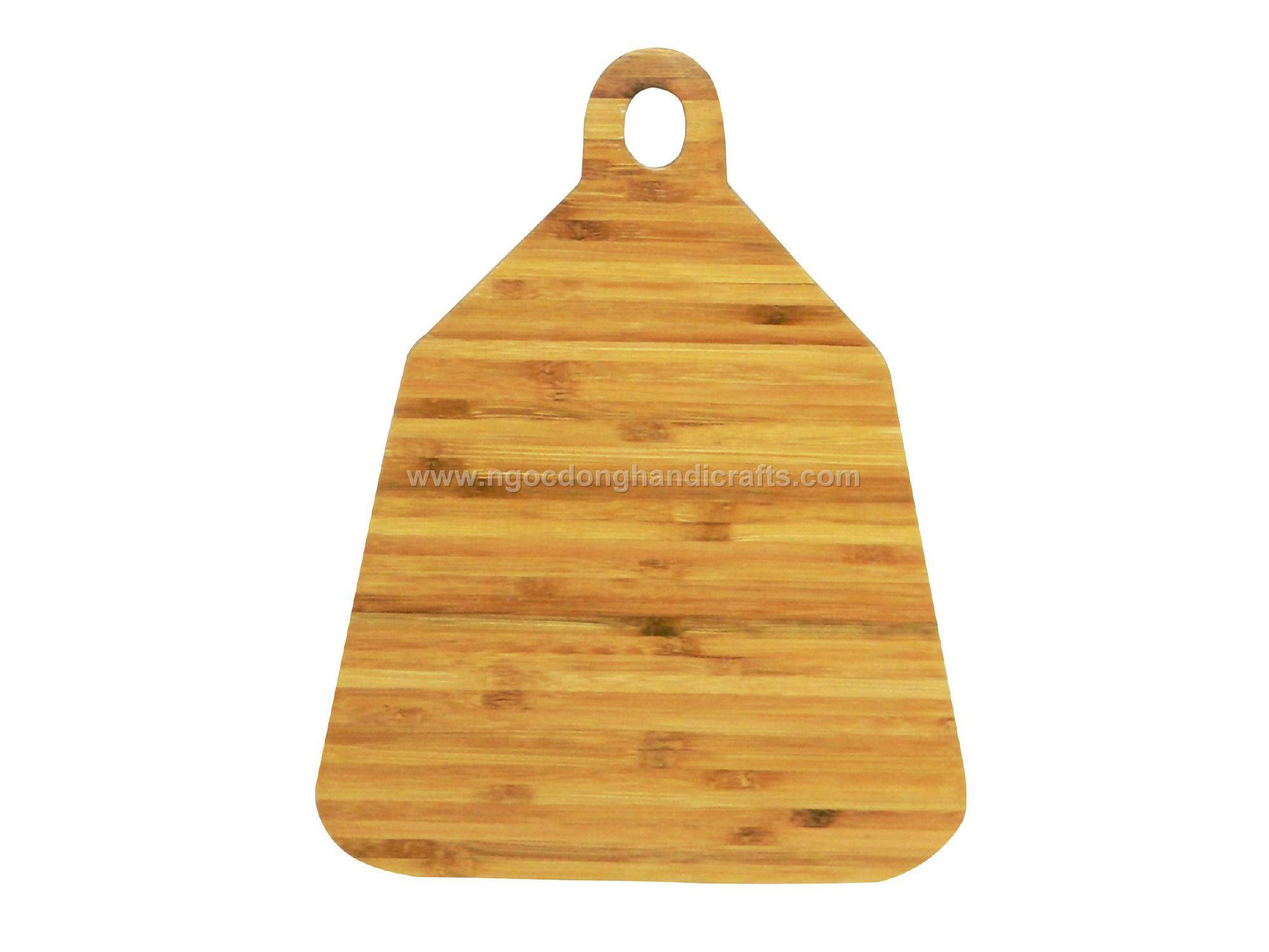gloved_hand: (309, 38, 976, 899)
